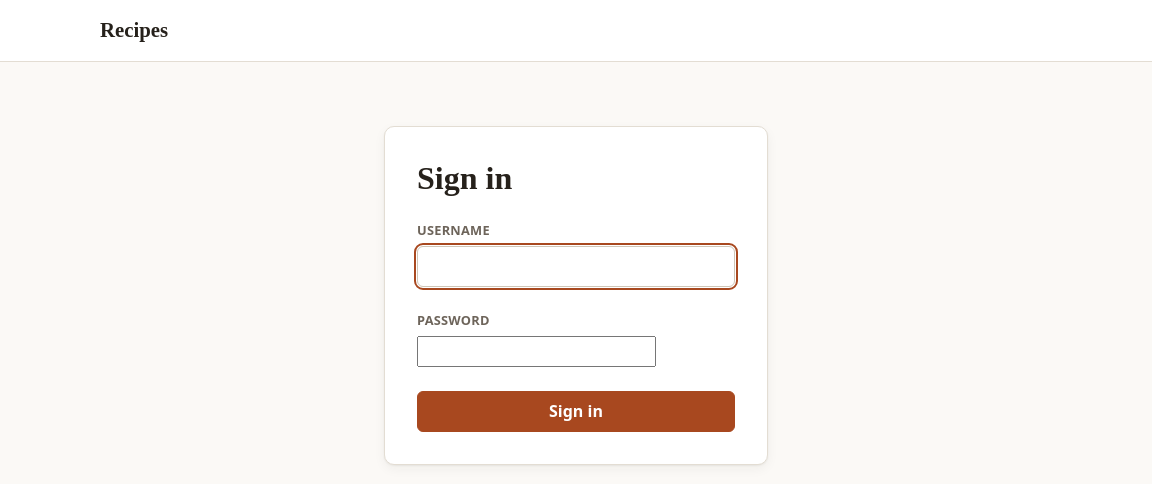
Scenario: login page › signs in with a password
The width and height of the screenshot is (1152, 484).
Type " cook " into the field labelled "Username" at (576, 267), box [417,246,735,287]
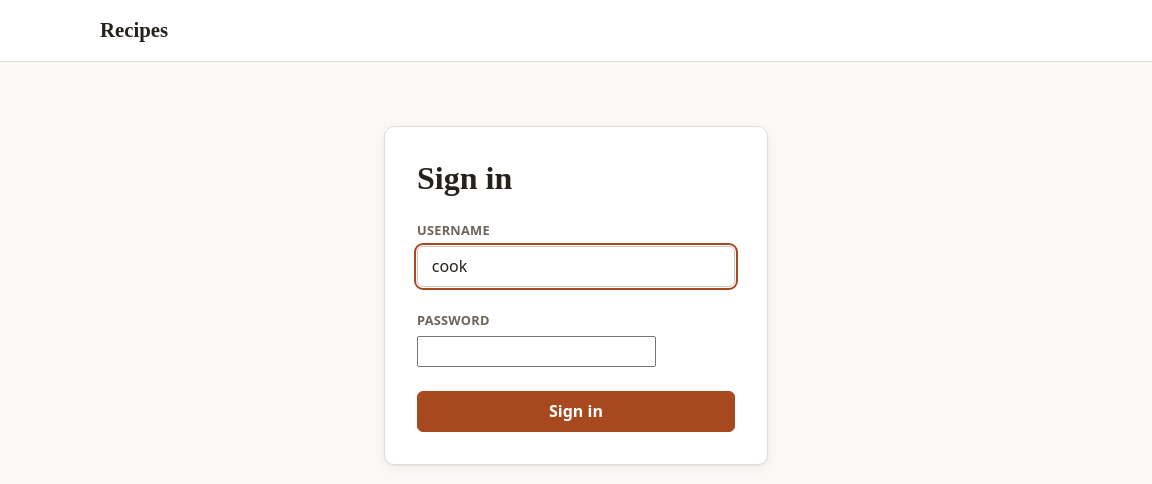
Type "secret" into the password field labelled "Password" at (536, 351), box [417,336,656,367]
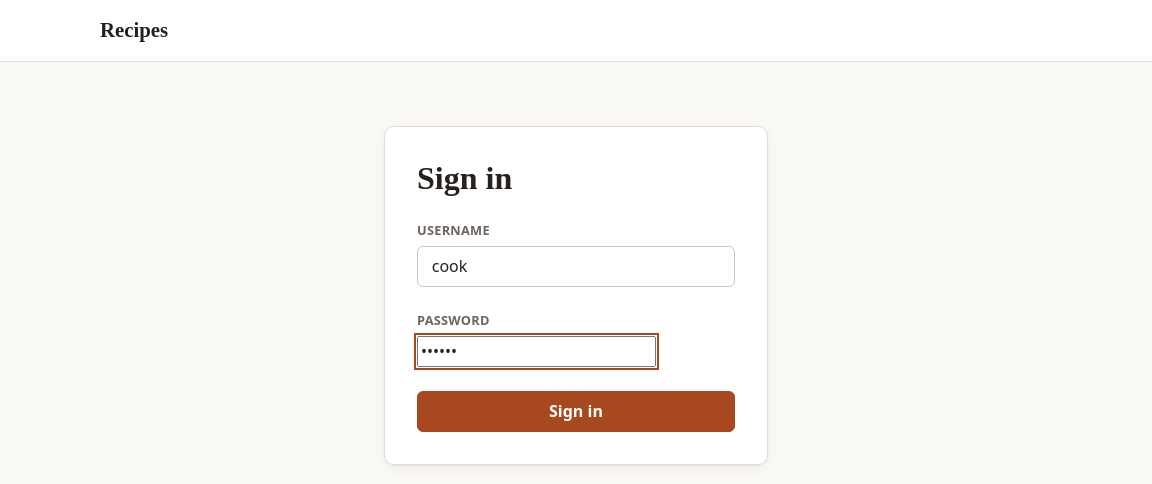
Click the button "Sign in" at (576, 411), box [417,391,735,432]
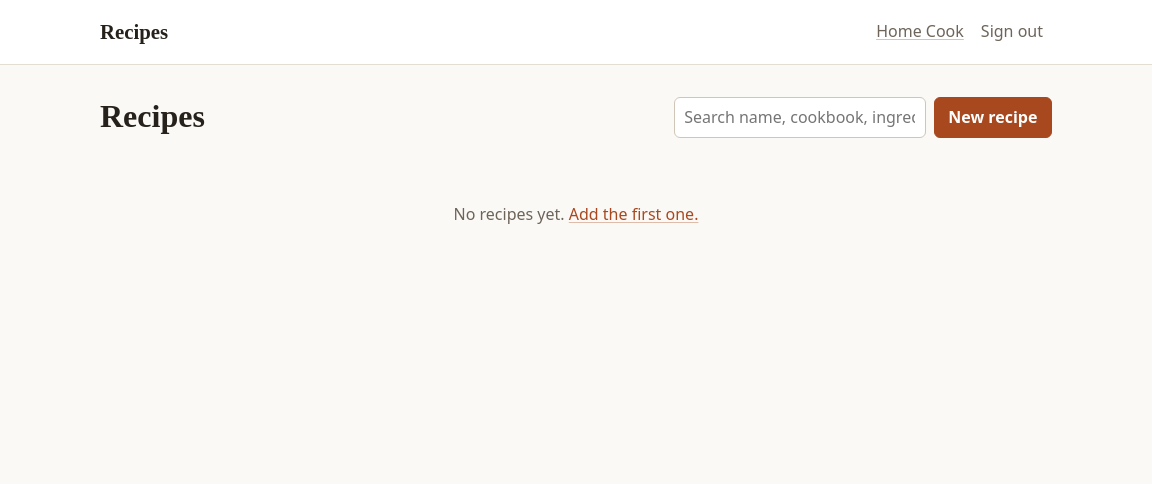
Expected: the button "Sign out" is shown, [972,14,1052,49]
